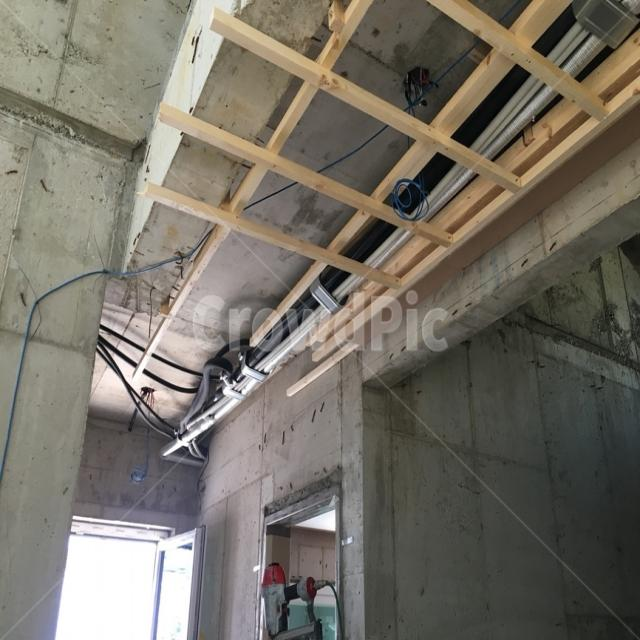wood: (250, 0, 564, 347), (311, 73, 640, 361), (208, 7, 521, 194), (158, 101, 453, 249), (392, 0, 572, 195), (143, 183, 401, 290), (426, 0, 609, 121), (287, 342, 359, 396)
